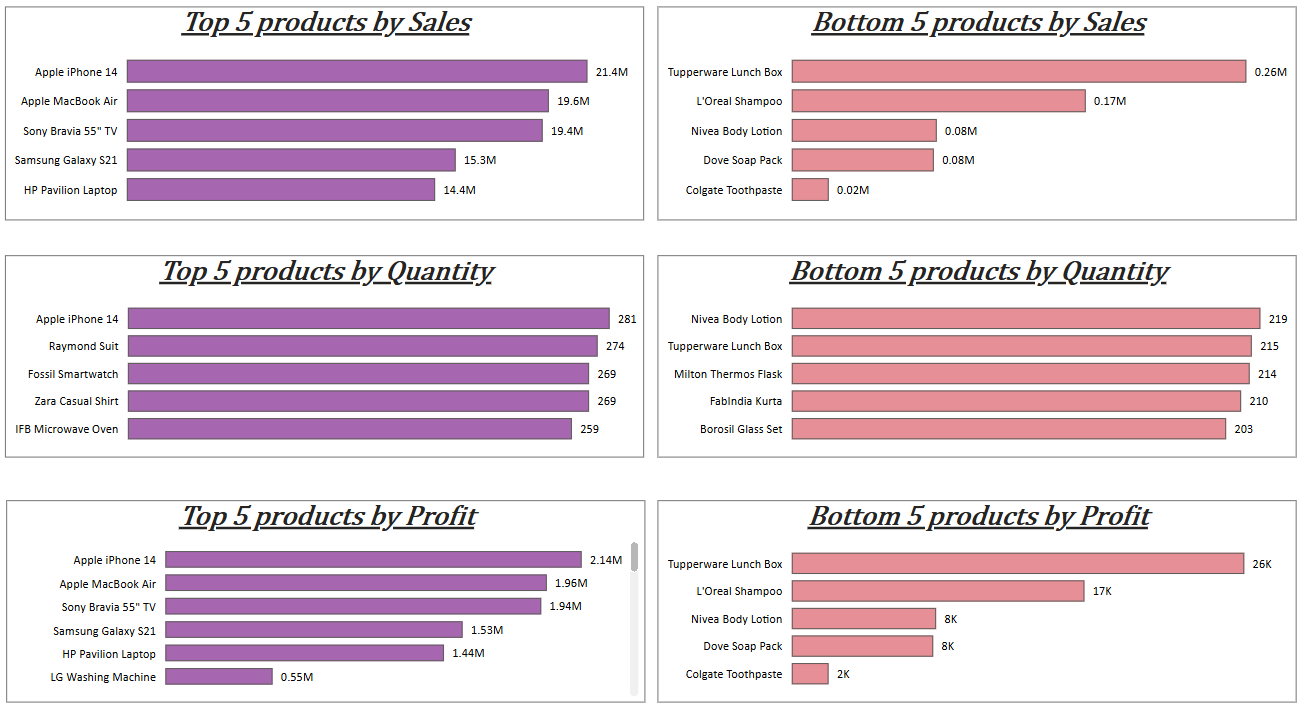

Layout of this report page (visuals, bound fields, positions):
{"tool":"powerbi","page":{"name":"Top/Bottom 5 Analysis","canvas":[1280,720],"ordinal":1},"visuals":[{"type":"barChart","title":"Top 5 products by Sales","fields":{"Category":["Dim Product.Product Name"],"Y":["Sum(Fact Table.Net Sales)"]},"box":[9.7,21.7,616.5,206.3],"z":0},{"type":"barChart","title":"Bottom 5 products by Sales","fields":{"Category":["Dim Product.Product Name"],"Y":["Sum(Fact Table.Net Sales)"]},"box":[639.4,21.7,616.5,206.3],"z":1000},{"type":"barChart","title":"Top 5 products by Quantity","fields":{"Category":["Dim Product.Product Name"],"Y":["Sum(Fact Table.Units Sold)"]},"box":[9.7,261.8,616.5,195.4],"z":2000},{"type":"barChart","title":"Bottom 5 products by Quantity","fields":{"Category":["Dim Product.Product Name"],"Y":["Sum(Fact Table.Units Sold)"]},"box":[639.4,261.8,616.5,195.4],"z":3000},{"type":"barChart","title":"Top 5 products by Profit","fields":{"Category":["Dim Product.Product Name"],"Y":["Sum(Fact Table.Profit)"]},"box":[10.9,498.3,616.5,195.4],"z":4000},{"type":"barChart","title":"Bottom 5 products by Profit","fields":{"Category":["Dim Product.Product Name"],"Y":["Sum(Fact Table.Profit)"]},"box":[639.4,498.3,616.5,195.4],"z":5000}]}

Visuals, with their boxes on the page's 1280x720 design canvas (x1, y1, x2, y2). These are canvas units, not pixel positions in the 1305x703 screenshot, which may show the page scaled, cropped or inside an application window:
"Top 5 products by Sales" barChart: pyautogui.locateOnScreen(10, 22, 626, 228)
"Bottom 5 products by Sales" barChart: pyautogui.locateOnScreen(639, 22, 1256, 228)
"Top 5 products by Quantity" barChart: pyautogui.locateOnScreen(10, 262, 626, 457)
"Bottom 5 products by Quantity" barChart: pyautogui.locateOnScreen(639, 262, 1256, 457)
"Top 5 products by Profit" barChart: pyautogui.locateOnScreen(11, 498, 627, 694)
"Bottom 5 products by Profit" barChart: pyautogui.locateOnScreen(639, 498, 1256, 694)
